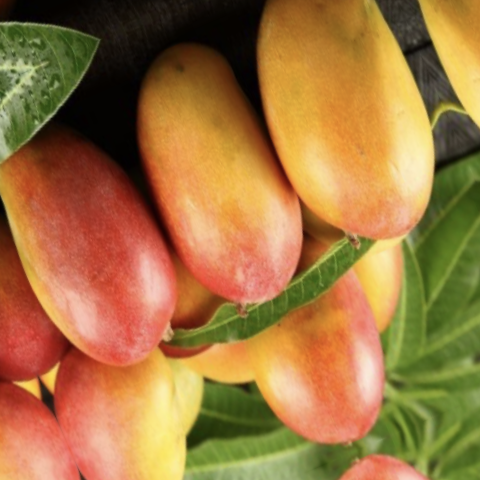mango: (207, 0, 480, 293), (0, 74, 225, 420), (85, 18, 334, 328), (197, 222, 432, 480)
